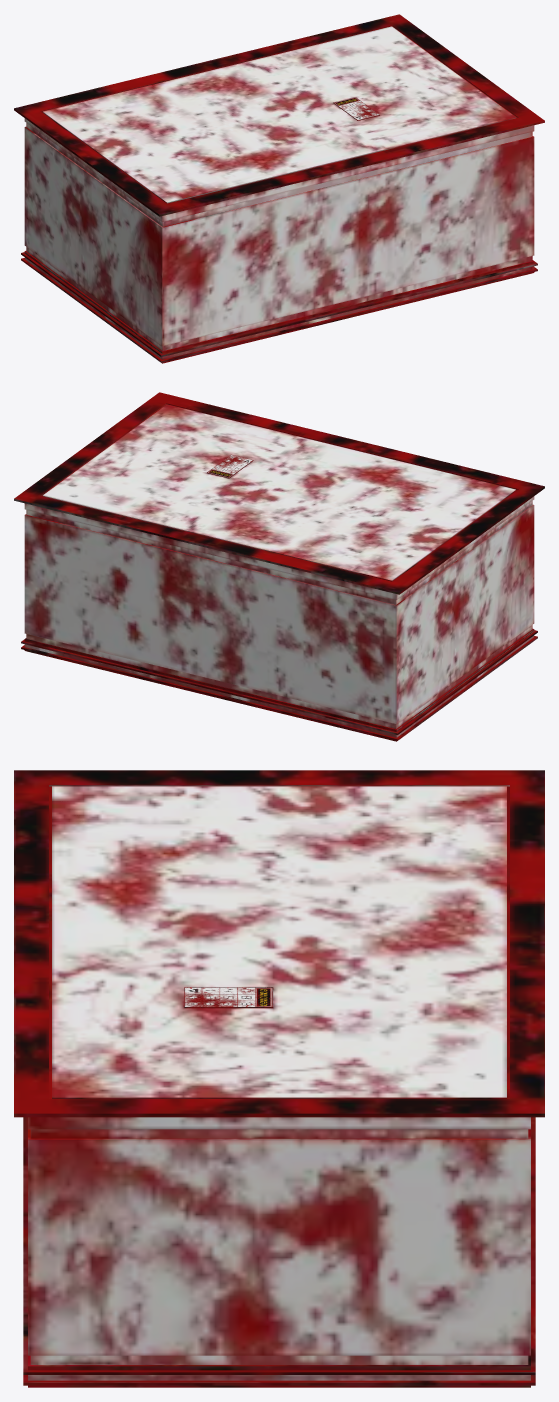
File: x_restos_turmoil_chest.glb
3 views of the same model, one above another, from view 1: azimuth 30°, elevation 25°; view 2: azimuth 150°, elevation 25°; view 3: azimuth 270°, elevation 25° (orthographic). The views are drawn at different scales.
Parts seen in each view (by area): view 1: Box001_chest body_0; view 2: Box001_chest body_0; view 3: Box001_chest body_0.
Part boxes in pixels (x1=…): Box001_chest body_0: x1=14, y1=14, x2=544, y2=363; Box001_chest body_0: x1=14, y1=392, x2=544, y2=741; Box001_chest body_0: x1=14, y1=770, x2=544, y2=1387.
Bounding box in the file's own units: 0.8 × 0.3051 × 0.5228.
2 materials, 2 textured.
